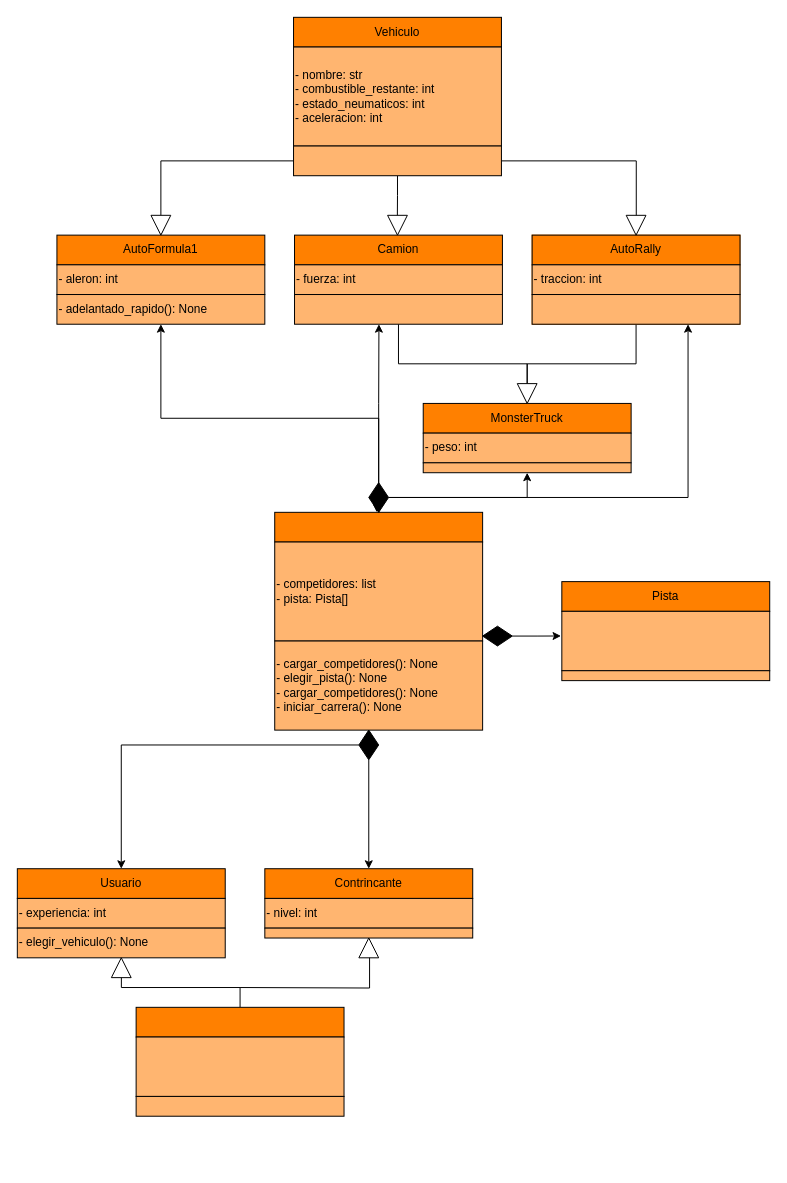
Some shapes in this 787 by 1183 pixel diagram are drawn without their labels. Each missing label, with the centre of its shape:
"- chocar(): None" belongs at point (398, 309).
"- derrapar(): None" belongs at point (635, 309).
"- ir_a_los_pits(): None" belongs at point (397, 160).
"- nombre: str - dificultad: int - numero_de_vueltas: int" belongs at point (665, 640).
"- nombre: str - habilidad: int - vehiculos: list" belongs at point (239, 1066).
"GrandPrix" belongs at point (378, 526).
"Piloto" belongs at point (239, 1021).
